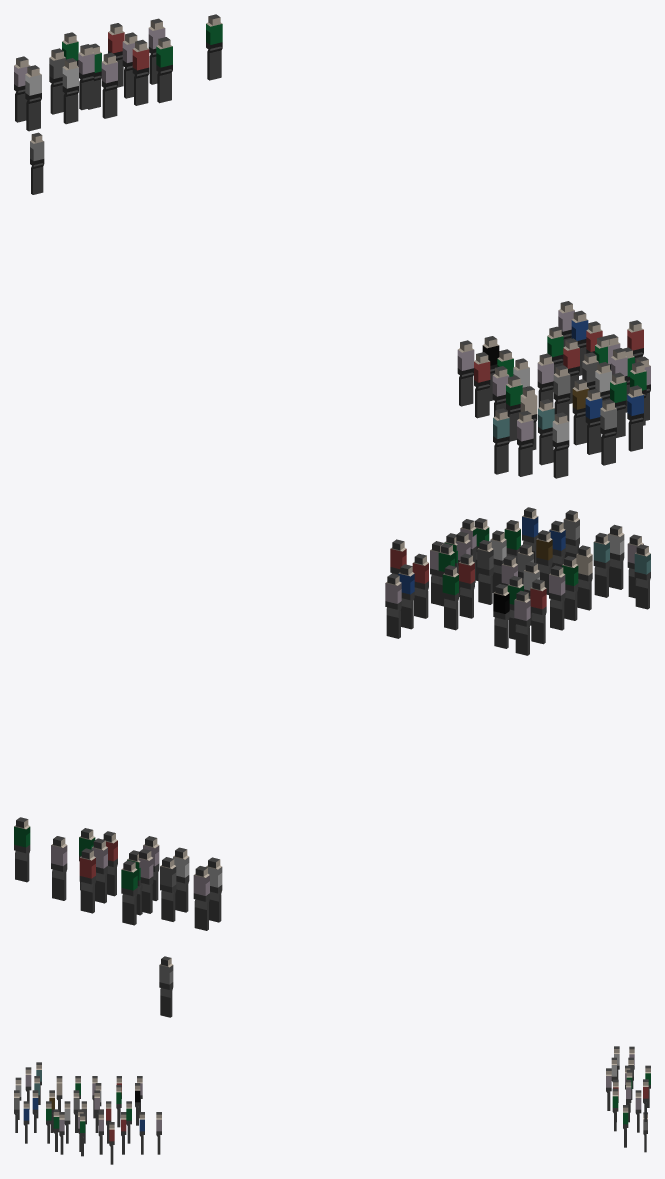
Rendered from tyne-ferry-passengers.dae.
The picture shows the model from 3 angles, top to bottom: view 1: azimuth 30°, elevation 25°; view 2: azimuth 150°, elevation 25°; view 3: azimuth 270°, elevation 25°; orthographic projection. The views are drawn at different scales.
Parts seen in each view (by area): view 1: Plane_116, Plane_148, Plane_160, Plane_184, Plane_114, Plane_145, Plane_169, Plane_098, Plane_170, Plane_123, Plane_129, Plane_136 (+16 smaller); view 2: Plane_145, Plane_154, Plane_084, Plane_112, Plane_113, Plane_114, Plane_147, Plane_102, Plane_126, Plane_141, Plane_146, Plane_186 (+15 smaller); view 3: Plane_170, Plane_129, Plane_135, Plane_121, Plane_125, Plane_186, Plane_128, Plane_184, Plane_084, Plane_087, Plane_089, Plane_122 (+14 smaller).
Boxes of the visible parts, <box> form: Plane_116: <box>552,412,569,478</box>; Plane_148: <box>62,58,78,124</box>; Plane_160: <box>132,39,149,105</box>; Plane_184: <box>101,52,117,118</box>; Plane_114: <box>457,340,474,406</box>; Plane_145: <box>206,14,222,80</box>; Plane_169: <box>25,65,41,131</box>; Plane_098: <box>517,411,533,476</box>; Plane_170: <box>156,37,172,103</box>; Plane_123: <box>493,408,509,474</box>; Plane_129: <box>627,385,643,451</box>; Plane_136: <box>600,399,616,465</box>; Plane_145: <box>14,817,30,882</box>; Plane_154: <box>121,860,137,925</box>; Plane_084: <box>385,573,401,638</box>; Plane_112: <box>549,565,565,630</box>; Plane_113: <box>530,579,546,644</box>; Plane_114: <box>514,590,530,655</box>; Plane_147: <box>160,857,176,921</box>; Plane_102: <box>493,584,509,648</box>; Plane_126: <box>477,540,493,604</box>; Plane_141: <box>193,866,209,930</box>; Plane_146: <box>79,848,95,913</box>; Plane_186: <box>51,836,67,900</box>; Plane_170: <box>612,1088,618,1131</box>; Plane_129: <box>23,1101,29,1143</box>; Plane_135: <box>32,1090,38,1132</box>; Plane_121: <box>53,1109,59,1151</box>; Plane_125: <box>64,1101,70,1143</box>; Plane_186: <box>635,1090,641,1132</box>; Plane_128: <box>126,1101,131,1143</box>; Plane_184: <box>606,1068,611,1110</box>; Plane_084: <box>156,1112,161,1154</box>; Plane_087: <box>98,1112,103,1154</box>; Plane_089: <box>59,1112,64,1154</box>; Plane_122: <box>109,1122,114,1164</box>.
Size of the model in its own units: 2.41 by 9.46 by 1.55.
